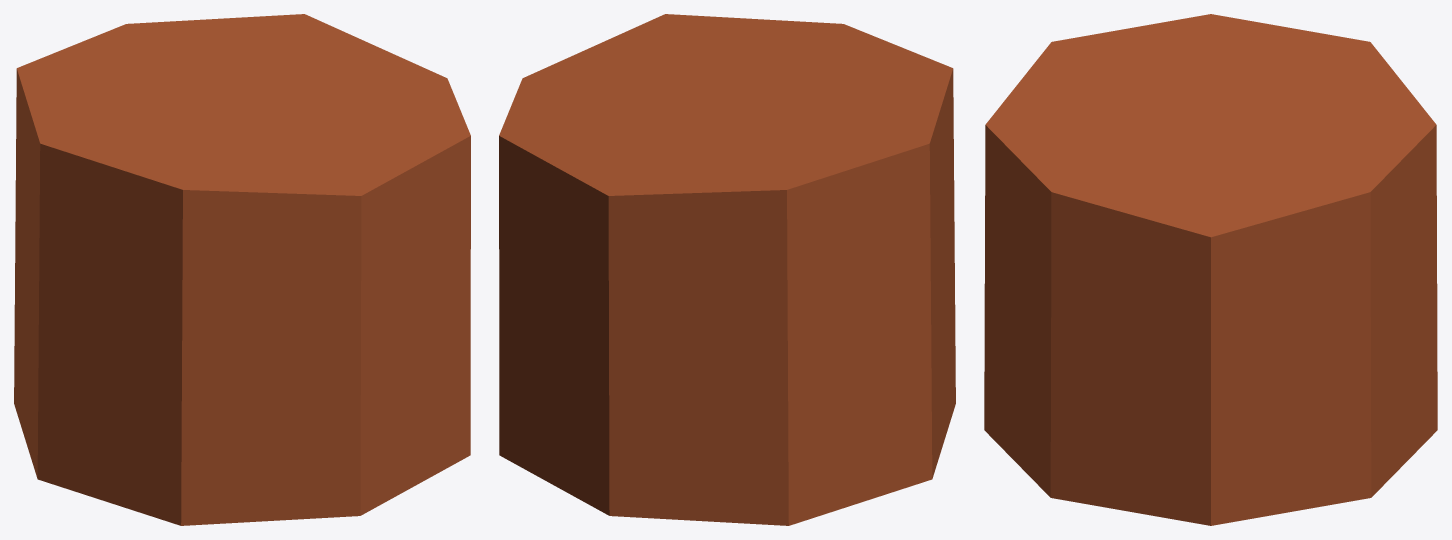
The model's file is Tree004_V4.fbx.
3 renders of one model, left to right at view 1: azimuth 30°, elevation 25°; view 2: azimuth 150°, elevation 25°; view 3: azimuth 270°, elevation 25°, orthographic. The views are drawn at different scales.
Parts seen in each view (by area): view 1: Tree004.003; view 2: Tree004.003; view 3: Tree004.003.
Boxes of the visible parts, <box> form: Tree004.003: <box>14,14,470,525</box>; Tree004.003: <box>499,14,955,525</box>; Tree004.003: <box>984,14,1437,525</box>.
Size of the model in its own units: 0.5519 by 0.4313 by 0.5512.
